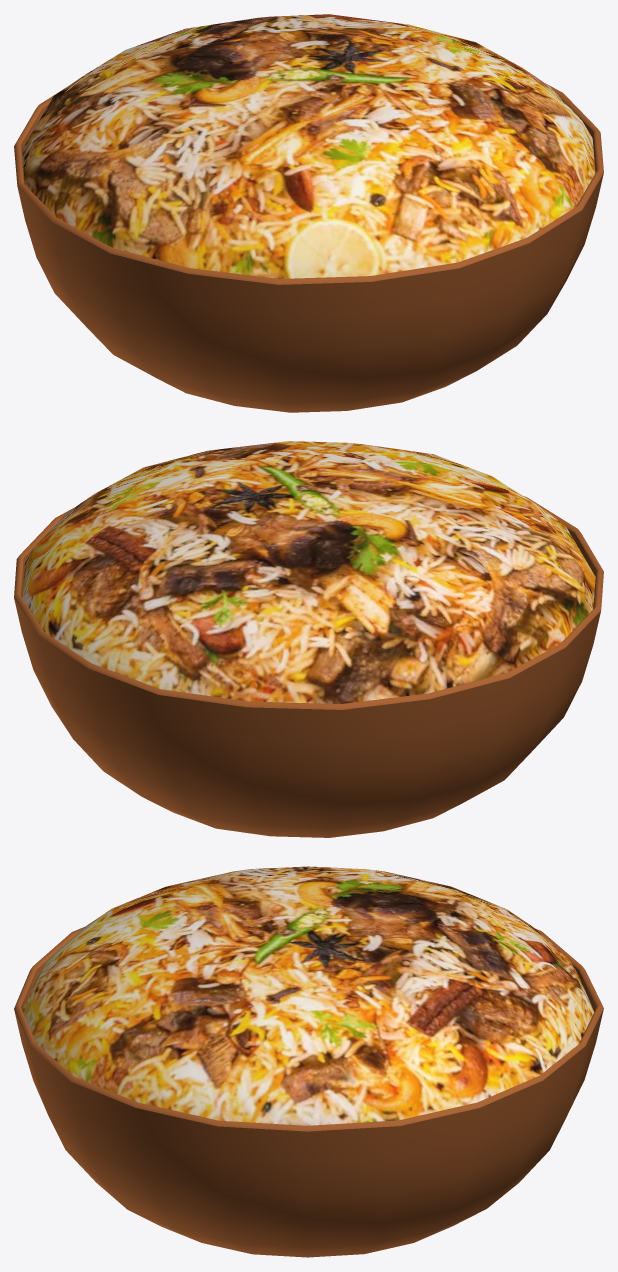
The model's file is biryani2-transformed.glb.
The picture shows the model from 3 angles, top to bottom: view 1: azimuth 30°, elevation 25°; view 2: azimuth 150°, elevation 25°; view 3: azimuth 270°, elevation 25°; orthographic projection.
Visible parts, largest first — view 1: bowl1; view 2: bowl1; view 3: bowl1.
Boxes of the visible parts, x1=… form: bowl1: x1=14, y1=14, x2=603, y2=412; bowl1: x1=14, y1=441, x2=603, y2=837; bowl1: x1=14, y1=866, x2=603, y2=1257.
Size of the model in its own units: 0.0571 by 0.0315 by 0.0577.
1 material, 1 textured.
